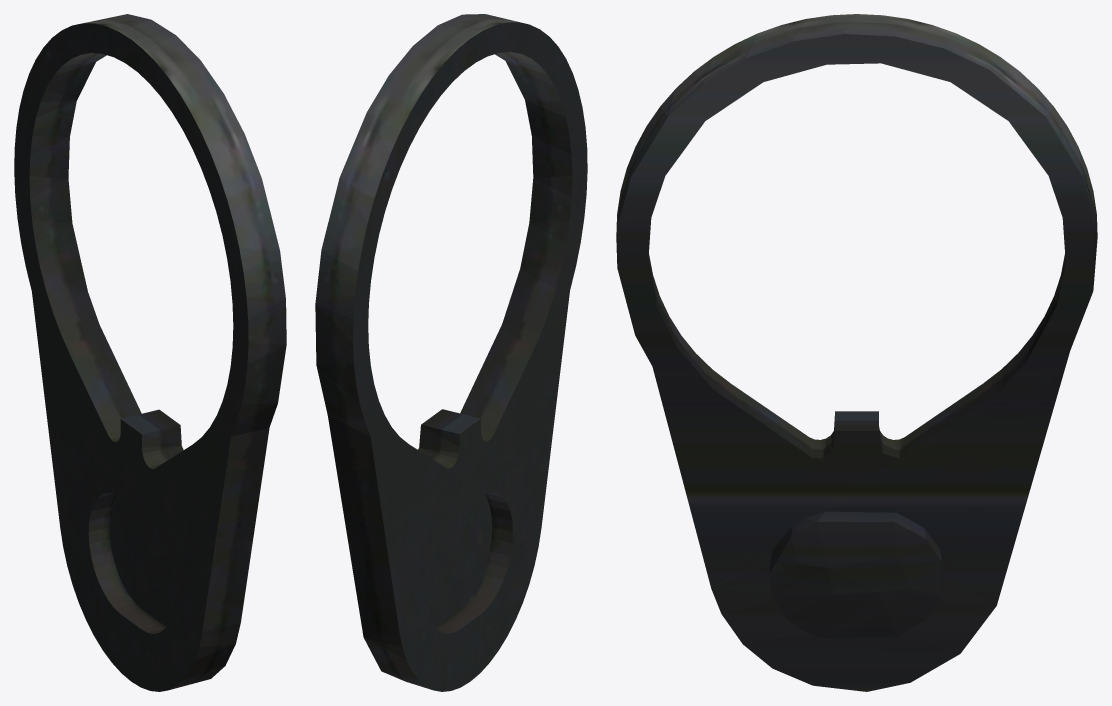
The model's file is Receiver_End_Plate.dae.
The picture shows the model from 3 angles, left to right: view 1: azimuth 30°, elevation 25°; view 2: azimuth 150°, elevation 25°; view 3: azimuth 270°, elevation 25°; orthographic projection. The views are drawn at different scales.
Visible parts, largest first — view 1: Receiver_End_Plate; view 2: Receiver_End_Plate; view 3: Receiver_End_Plate.
Part boxes in pixels (bbox=[...]): Receiver_End_Plate: bbox=[14, 14, 286, 691]; Receiver_End_Plate: bbox=[315, 14, 587, 691]; Receiver_End_Plate: bbox=[616, 14, 1097, 691].
Bounding box in the file's own units: 0.00505 × 0.0338 × 0.0511.
Materials: 1 (1 with a texture image).
